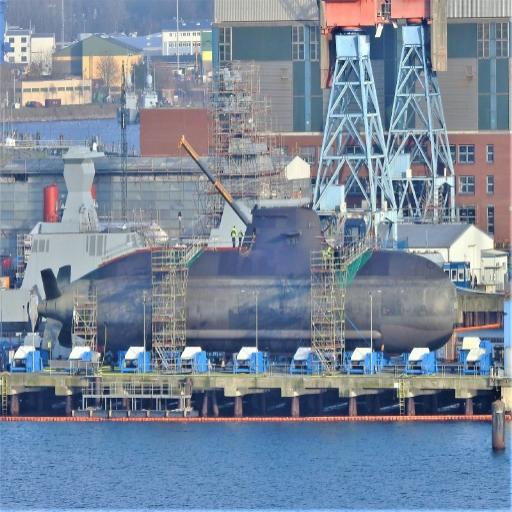submarine: (30, 206, 454, 356)
